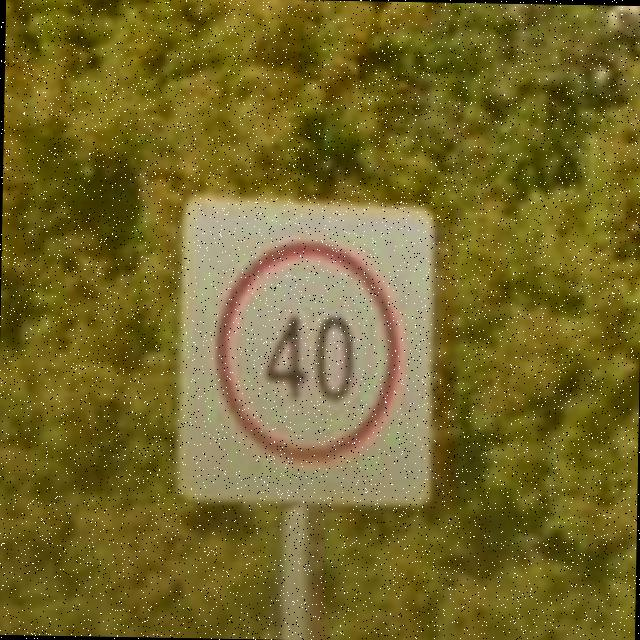Ograniczenie predkosci do 40: (208, 233, 406, 465)
